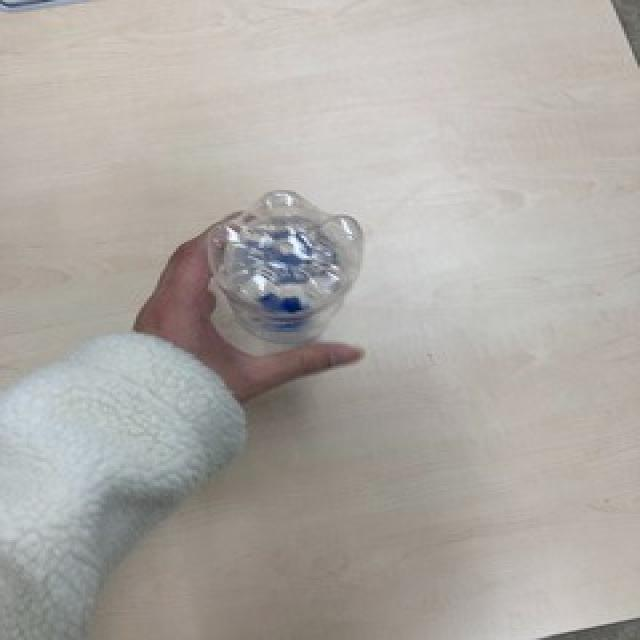good: (204, 181, 367, 361)
